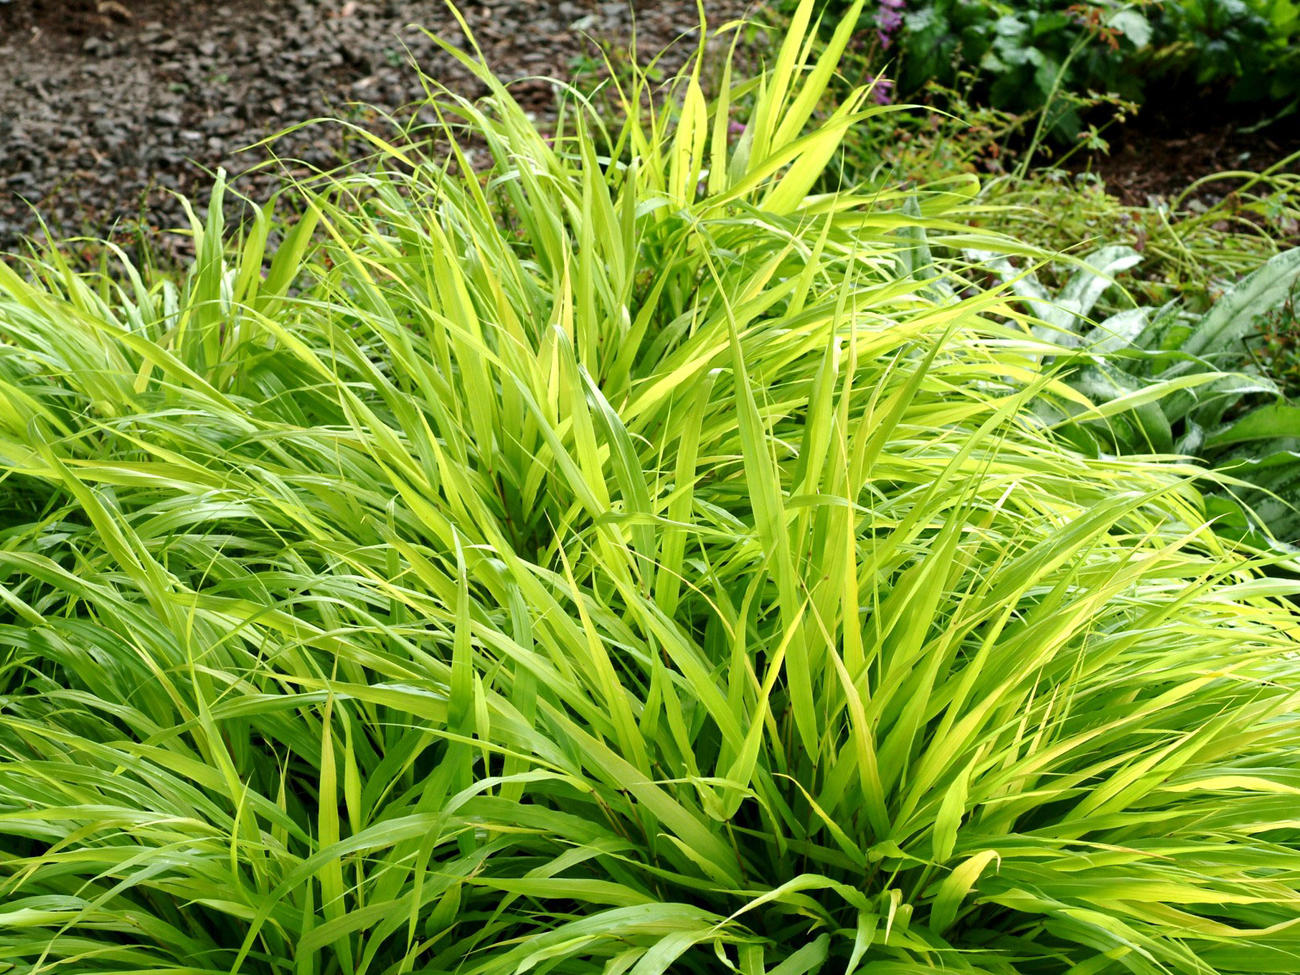grass: (6, 193, 1300, 973)
